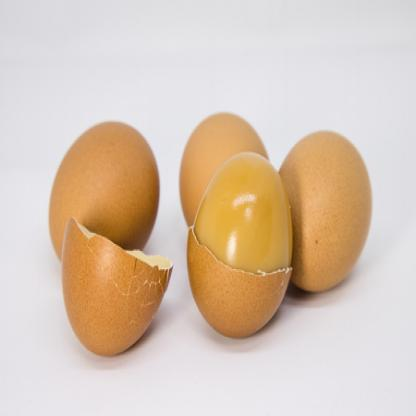egg: (274, 116, 372, 298), (44, 135, 166, 262), (176, 112, 266, 240)
